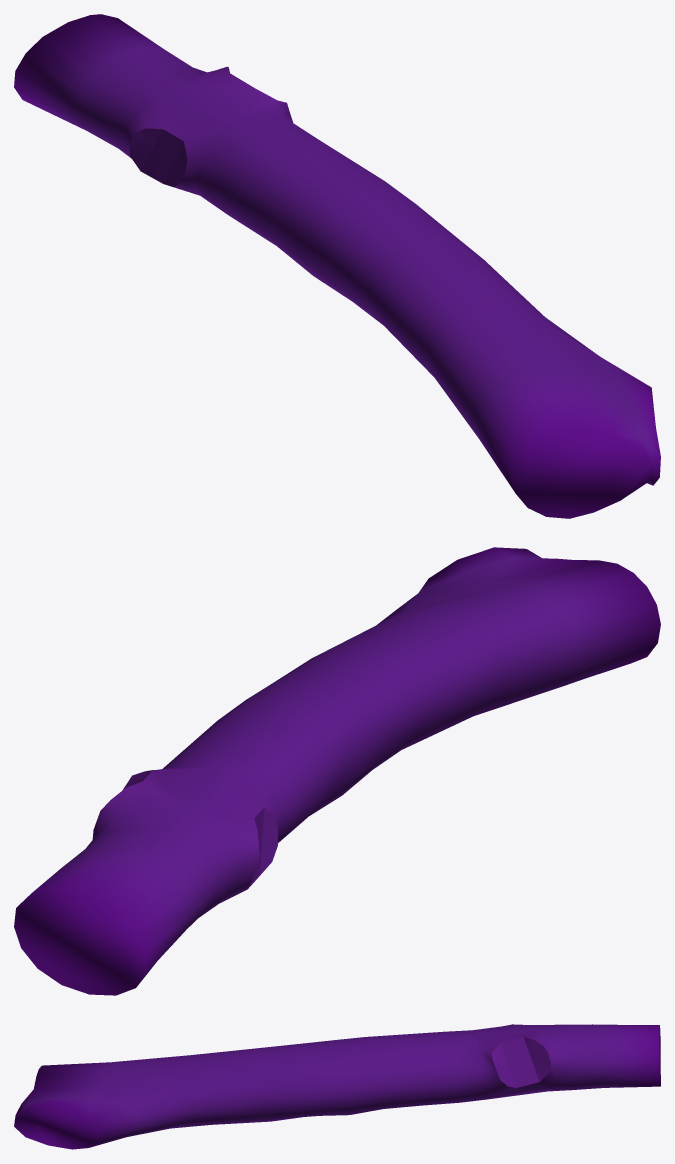
Rendered from IVC_out.fbx.
The picture shows the model from 3 angles, top to bottom: view 1: azimuth 30°, elevation 25°; view 2: azimuth 150°, elevation 25°; view 3: azimuth 270°, elevation 25°; orthographic projection. The views are drawn at different scales.
Visible parts, largest first — view 1: IVC_out; view 2: IVC_out; view 3: IVC_out.
Boxes of the visible parts, <box> form: IVC_out: <box>14,14,660,518</box>; IVC_out: <box>14,547,660,995</box>; IVC_out: <box>14,1024,660,1149</box>.
Bounding box in the file's own units: 28.84 × 22.01 × 125.
